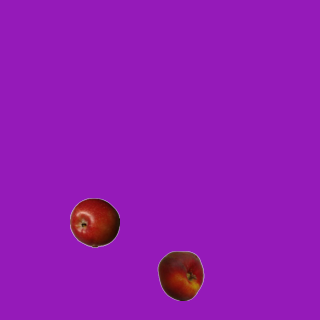Apple Braeburn: (69, 197, 119, 247)
Nectarine Flat: (155, 250, 205, 300)
